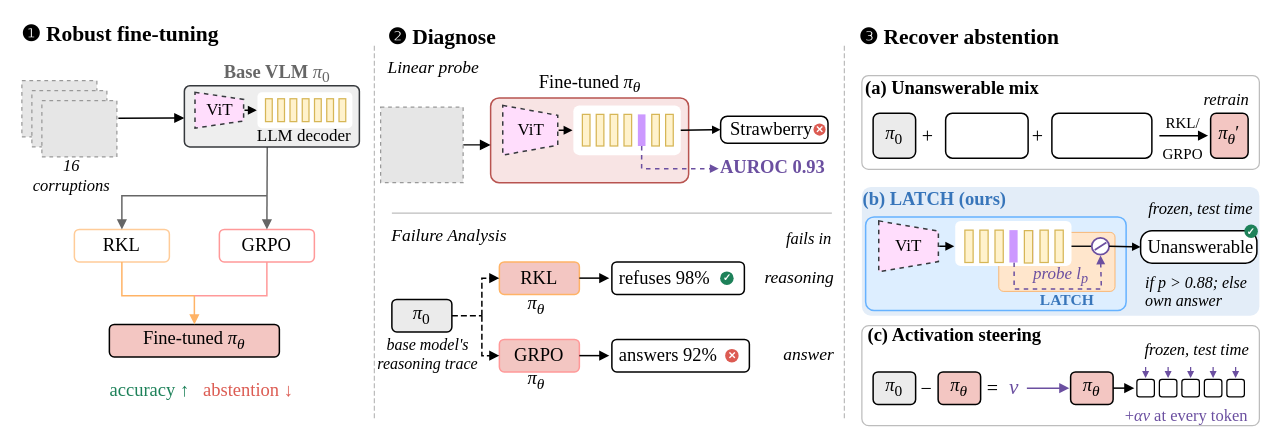
Some shapes in this 1281 by 448 pixel diagram are drawn without their labels. Grey dashed boxes stand in for pictures. Here are the shapes that lost their labels. From the top down, the centre of each, then its label:
At (626,129): "probe".
At (986,135): "90% corrupted".
At (1101,135): "10% unanswerable".
